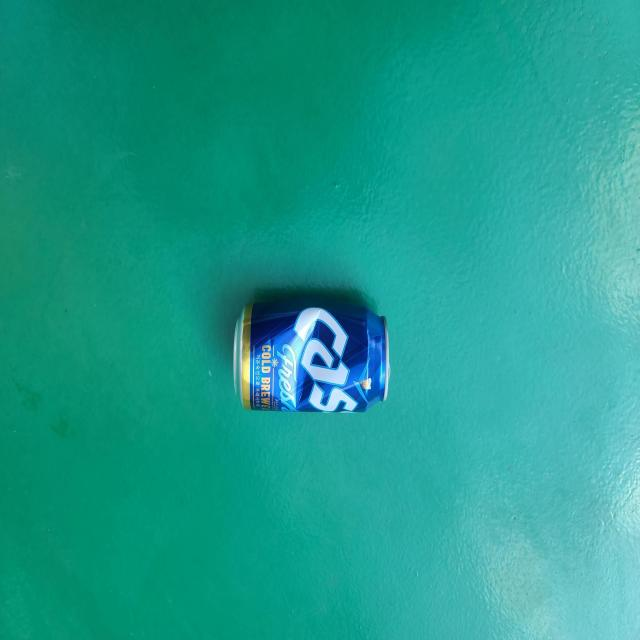can: (233, 298, 390, 413)
